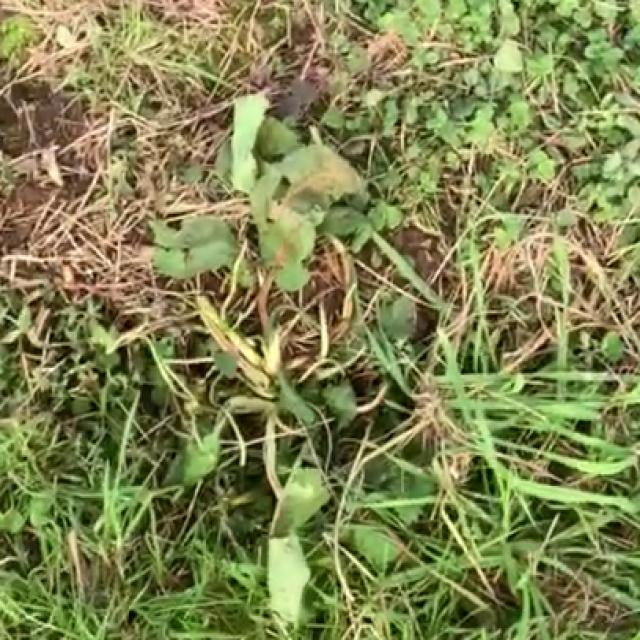organic waste: (150, 96, 374, 440), (154, 371, 437, 640)
